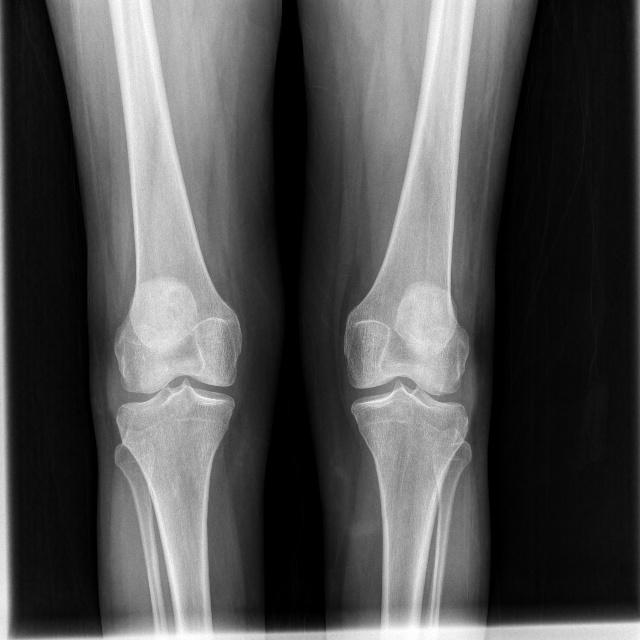Knee: (337, 329, 472, 461), (112, 320, 245, 445)
